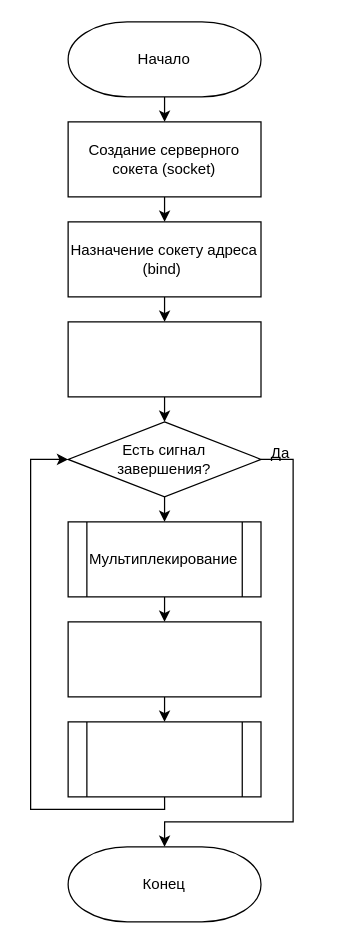
Image size: 340x944. Some labels were removed from this diagram. Here are the shapes that lost their labels. From the top down, the box of each, then its label:
(67, 321, 261, 397): Перевод сокета в режим прослушивания (listen)
(67, 621, 261, 697): Получение запроса
(67, 721, 261, 797): Обработка запроса
